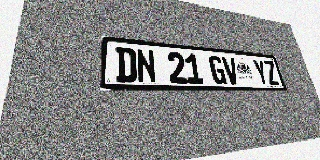1: (184, 53, 203, 84)
2: (167, 52, 188, 84)
D: (116, 47, 137, 83)
G: (208, 55, 227, 84)
N: (136, 49, 157, 83)
V: (222, 57, 240, 85)
Y: (252, 59, 270, 85)
Z: (263, 60, 280, 85)
